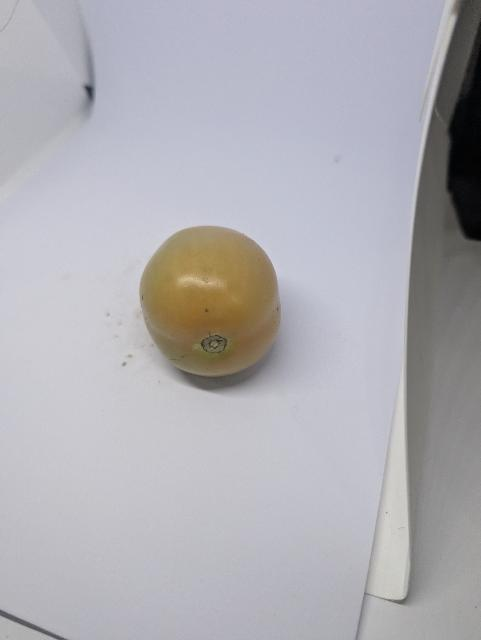breaker: (134, 220, 309, 387)
